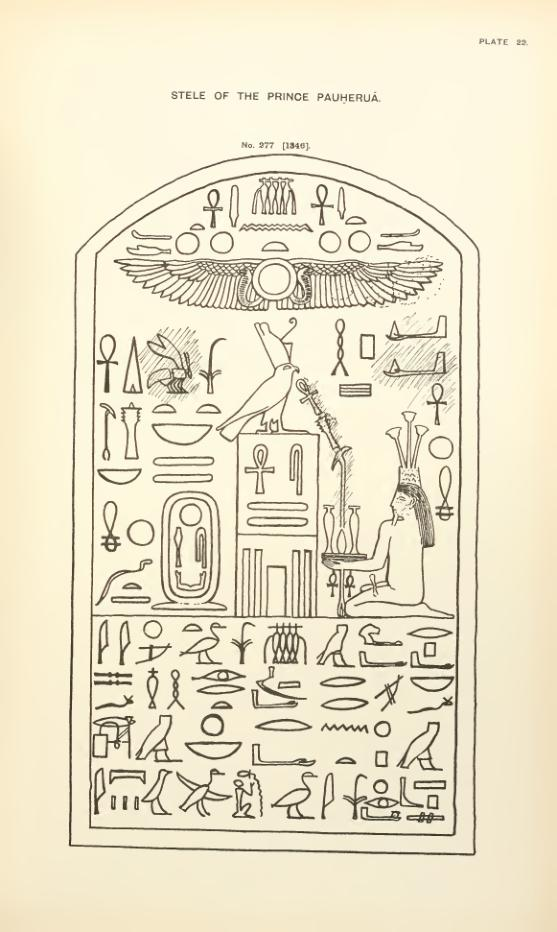circle: (157, 489, 230, 612)
